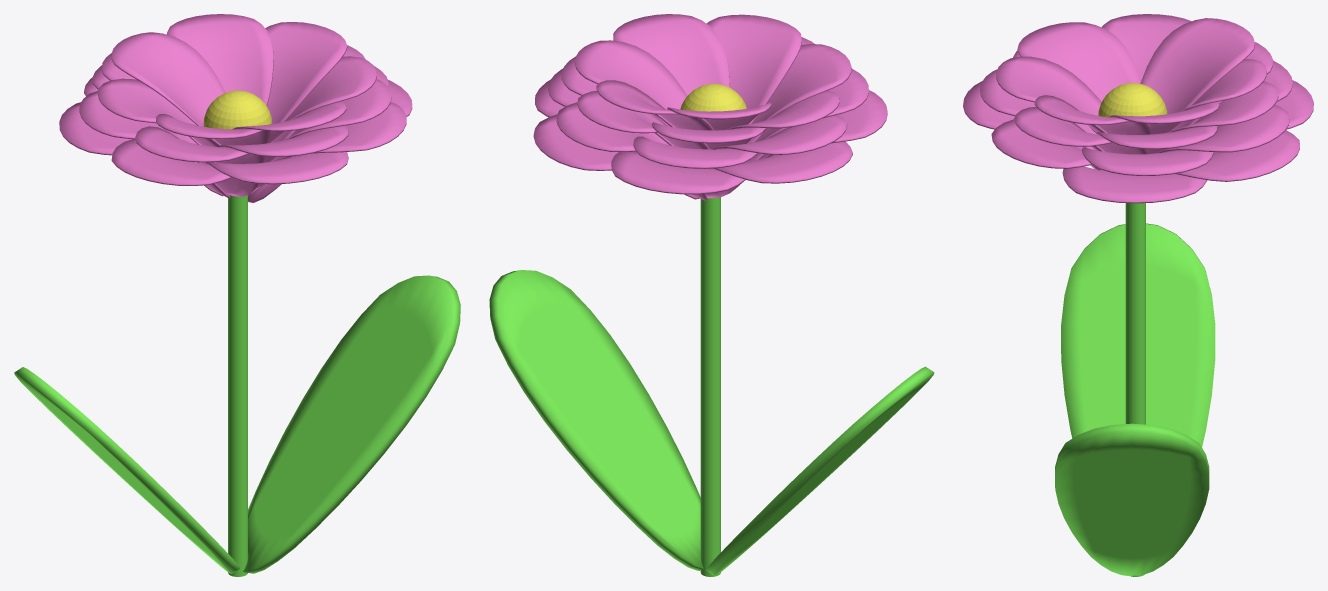
The model's file is flower.fbx.
The picture shows the model from 3 angles, left to right: view 1: azimuth 30°, elevation 25°; view 2: azimuth 150°, elevation 25°; view 3: azimuth 270°, elevation 25°; orthographic projection.
Visible parts, largest first — view 1: flower_move, kuki.002, Sphere; view 2: flower_move, kuki.002, Sphere; view 3: kuki.002, flower_move, Sphere.
Part boxes in pixels (x1,y1,x2,y2): flower_move: (59, 14, 412, 202); kuki.002: (14, 195, 460, 576); Sphere: (203, 90, 272, 129); flower_move: (533, 14, 887, 200); kuki.002: (489, 197, 934, 576); Sphere: (680, 83, 746, 111); kuki.002: (1055, 203, 1215, 576); flower_move: (963, 14, 1313, 203); Sphere: (1098, 83, 1167, 117).
Size of the model in its own units: 495 by 570 by 354.
